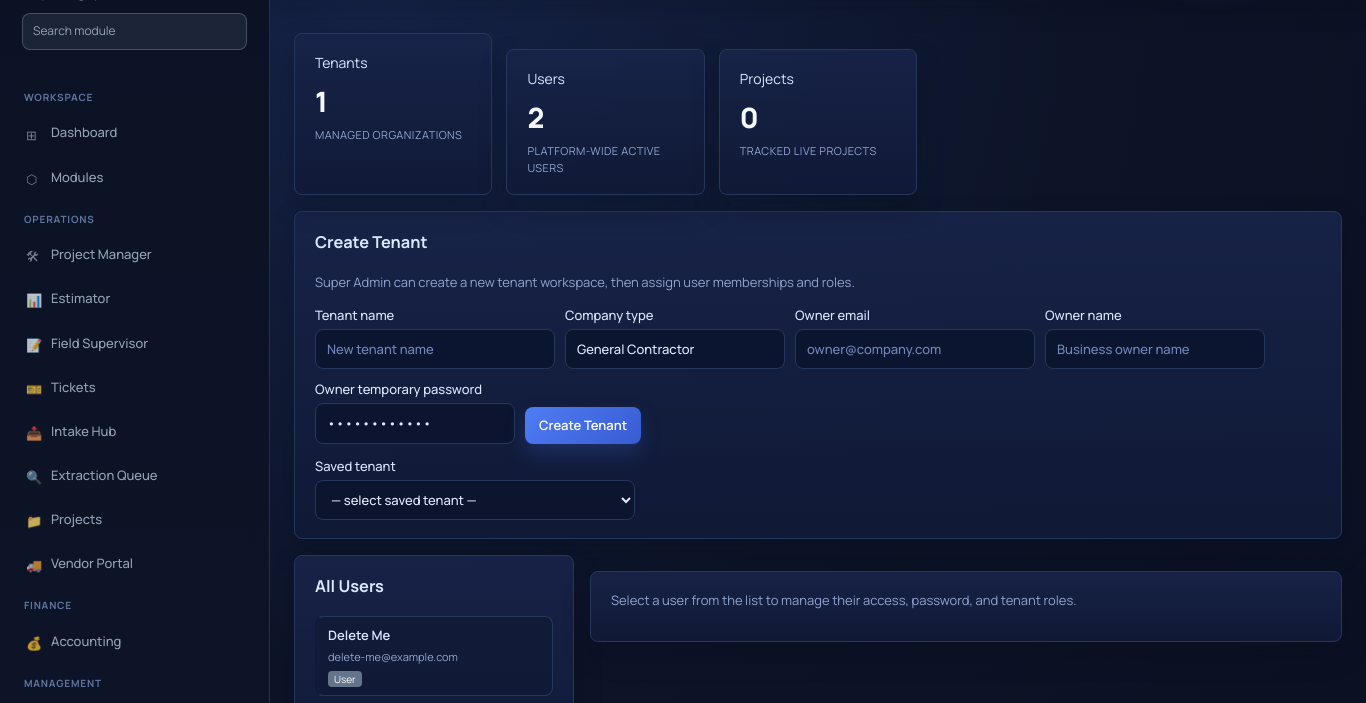
Platform admin tenant creation › deletes a user and purges them from the active user list
What coordinates should you click on to do the following:
click the text "Delete Me"
I would click on:
 (359, 634)
Its box is top-left (328, 626), bottom-right (390, 644).
(page scrolled)
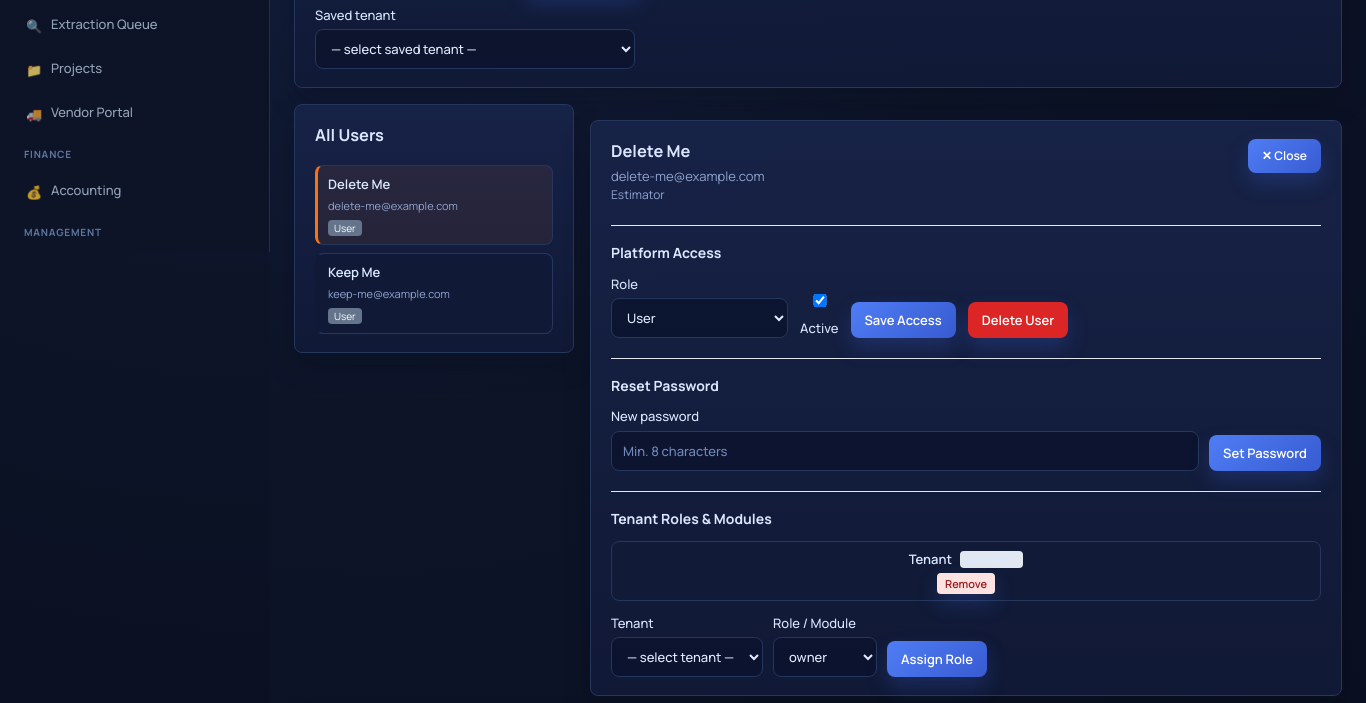
What coordinates should you click on to do the following:
click the button "Delete User"
I would click on:
 (1018, 320)
Its box is top-left (968, 302), bottom-right (1068, 338).
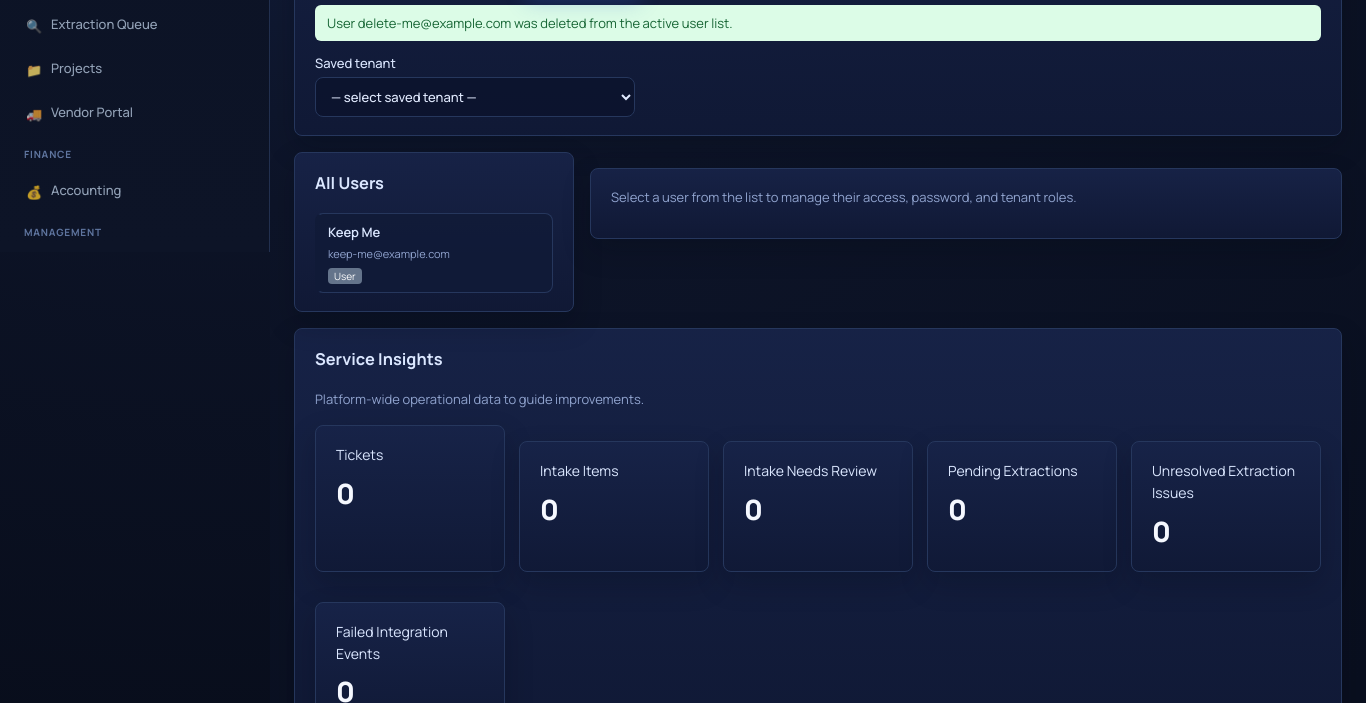
Expected: the text "Keep Me" is shown, top-left (328, 223), bottom-right (380, 241)
Result: the text "User delete-me@example.com was deleted from the active user list." is shown at top-left (315, 5), bottom-right (1321, 41)
Result: the text "Delete Me" is gone
